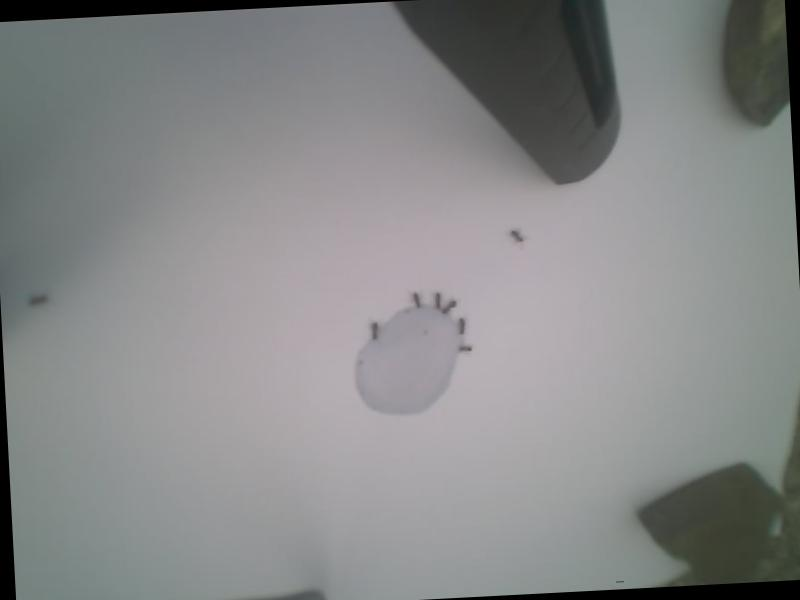Ant: (24, 292, 46, 306), (440, 298, 457, 312), (368, 320, 378, 339), (508, 228, 522, 241), (457, 315, 466, 334), (432, 291, 442, 308), (411, 290, 421, 306), (456, 343, 470, 352)
